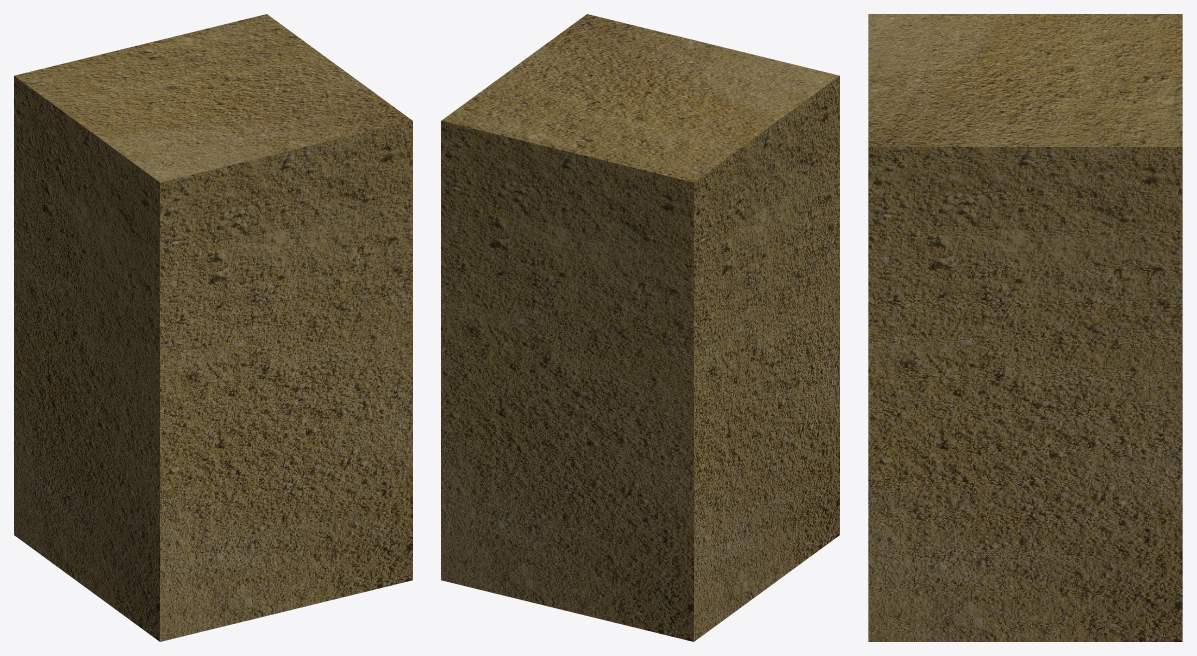
The model's file is SandWall.glb.
3 views of the same model, side by side, from view 1: azimuth 30°, elevation 25°; view 2: azimuth 150°, elevation 25°; view 3: azimuth 270°, elevation 25° (orthographic). The views are drawn at different scales.
Parts seen in each view (by area): view 1: SolidFloor; view 2: SolidFloor; view 3: SolidFloor.
Part boxes in pixels (x1,y1,x2,y2): SolidFloor: [14, 14, 412, 641]; SolidFloor: [441, 14, 839, 641]; SolidFloor: [868, 14, 1182, 641].
Size of the model in its own units: 2 by 3.47 by 2.
Materials: 1 (1 with a texture image).
